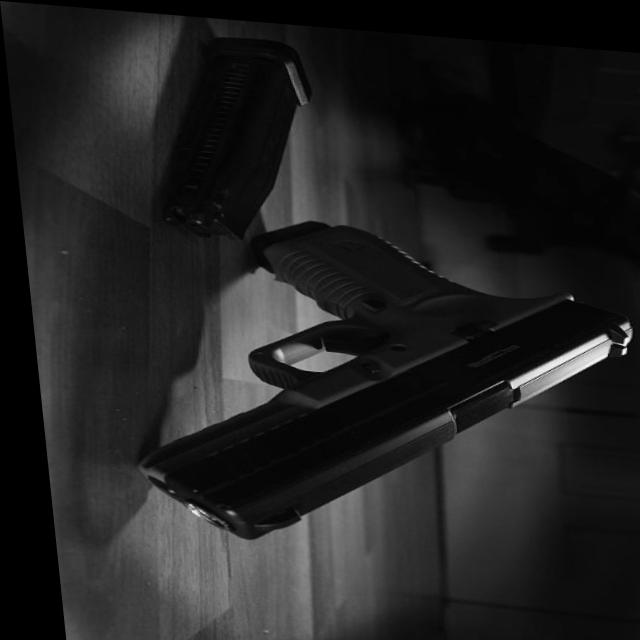handgun: (124, 200, 640, 560)
